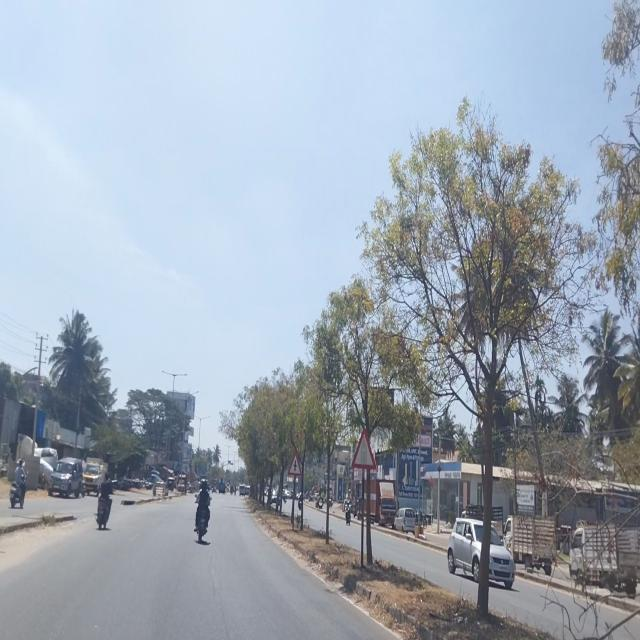bien_cam: (349, 426, 376, 470), (288, 451, 302, 476)
